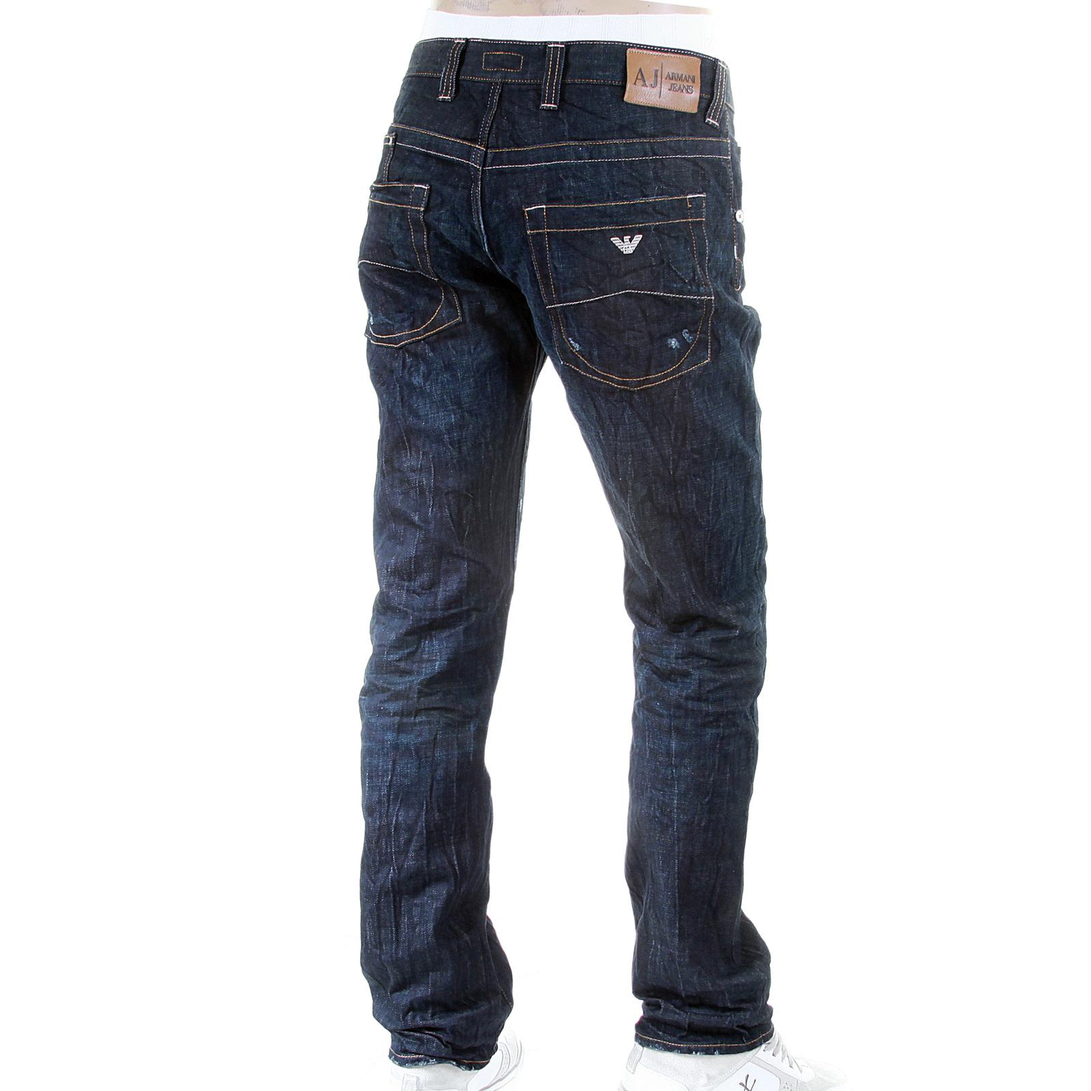Jeans: (346, 27, 785, 1077)
